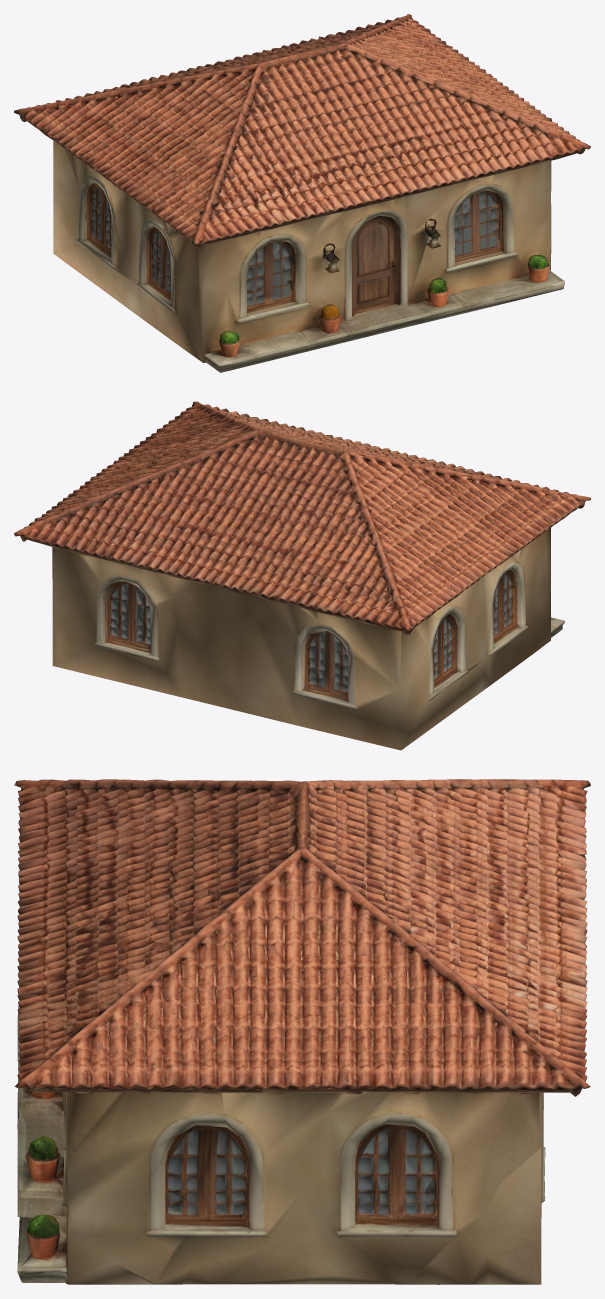
File: building-house-b.glb
3 views of the same model, one above another, from view 1: azimuth 30°, elevation 25°; view 2: azimuth 150°, elevation 25°; view 3: azimuth 270°, elevation 25° (orthographic). The views are drawn at different scales.
Parts seen in each view (by area): view 1: Mesh_0; view 2: Mesh_0; view 3: Mesh_0.
Boxes of the visible parts, x1,y1,x2,y2 form: Mesh_0: (14,14,590,372); Mesh_0: (14,401,590,750); Mesh_0: (14,779,590,1284).
Size of the model in its own units: 1.9 by 0.9723 by 1.51.
1 material, 1 textured.
